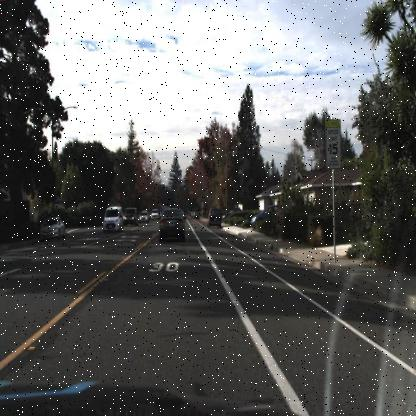car: (156, 204, 188, 245), (248, 202, 278, 229), (38, 215, 67, 242), (100, 204, 125, 233), (122, 206, 139, 228), (207, 206, 223, 228), (138, 208, 150, 223), (150, 207, 160, 221)
trafficLight-Green: (183, 184, 187, 192), (171, 184, 174, 194)
